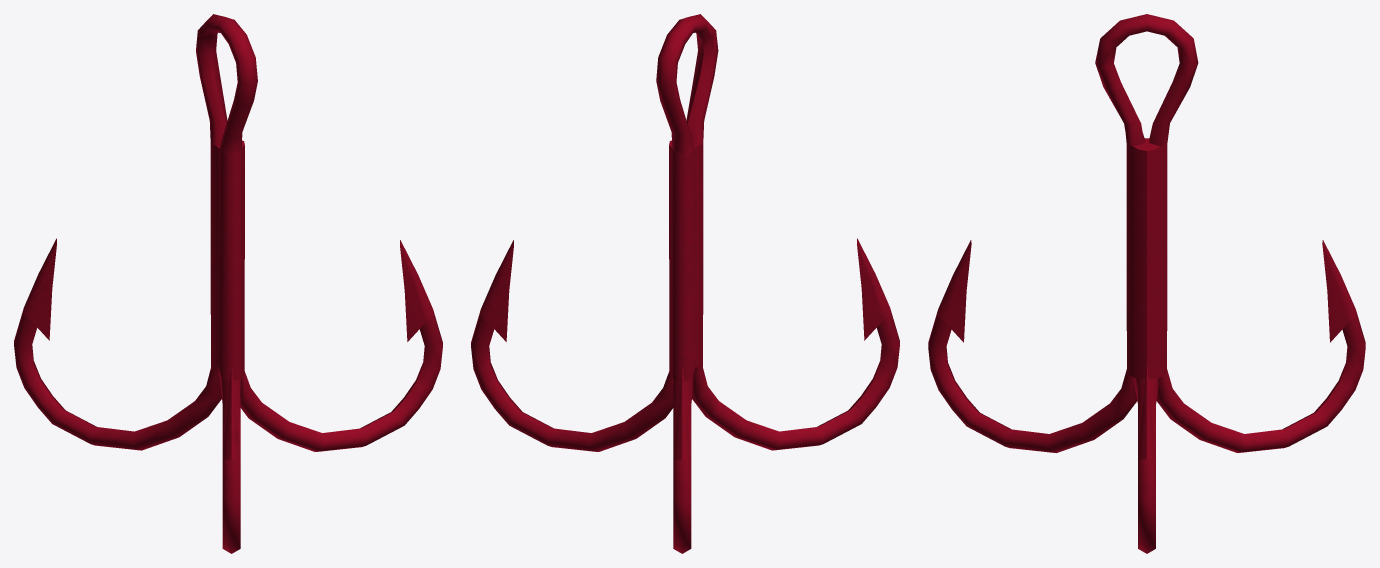
File: triple_20366.fbx
3 views of the same model, side by side, from view 1: azimuth 30°, elevation 25°; view 2: azimuth 150°, elevation 25°; view 3: azimuth 270°, elevation 25° (orthographic).
Parts seen in each view (by area): view 1: triple_20366_mesh; view 2: triple_20366_mesh; view 3: triple_20366_mesh.
Part boxes in pixels (left/top/right/bottom): triple_20366_mesh: left=14, top=14, right=442, bottom=553; triple_20366_mesh: left=471, top=14, right=899, bottom=553; triple_20366_mesh: left=928, top=14, right=1365, bottom=553.
Bounding box in the file's own units: 0.9013 × 1.23 × 1.05.
1 material, 1 textured.
